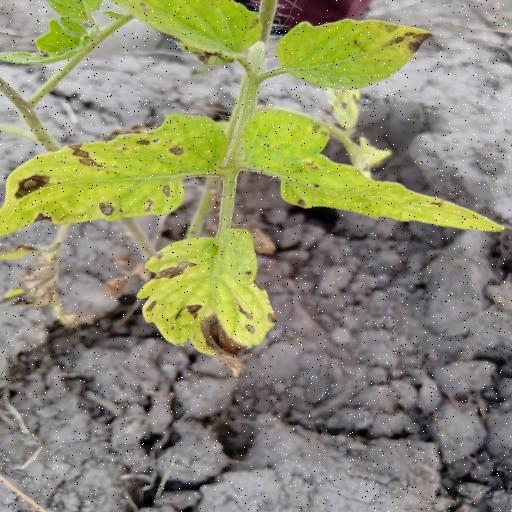Tomato_Brown_Spots: (238, 102, 512, 237), (0, 107, 237, 239), (135, 224, 277, 382), (268, 13, 439, 94)
